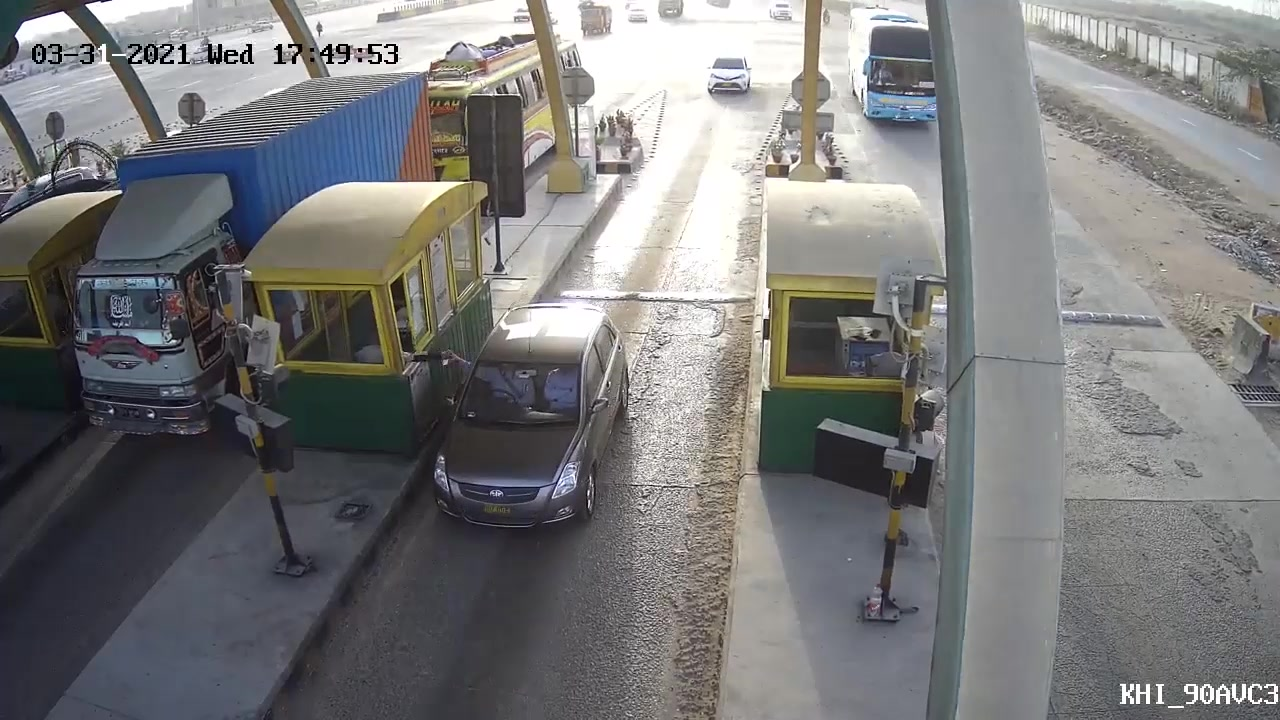F1: (414, 304, 633, 530)
